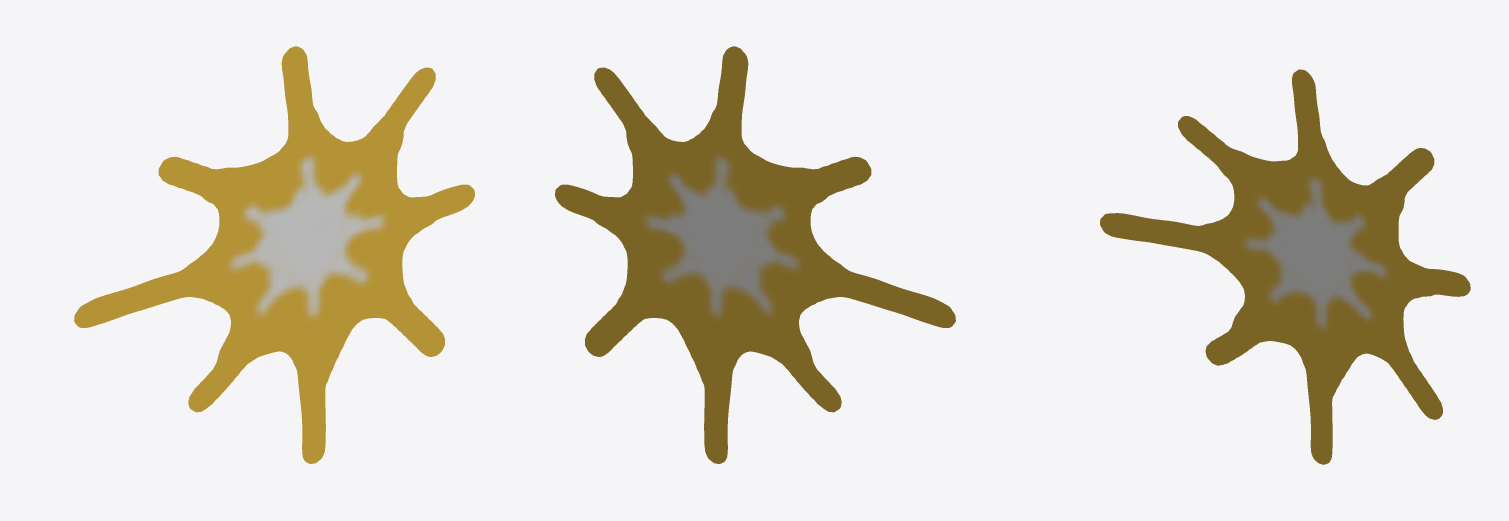
The model's file is nangua_bullet_dark.FBX.
3 renders of one model, left to right at view 1: azimuth 30°, elevation 25°; view 2: azimuth 150°, elevation 25°; view 3: azimuth 330°, elevation 25°, orthographic. The views are drawn at different scales.
Visible parts, largest first — view 1: bullet_dark; view 2: bullet_dark; view 3: bullet_dark.
Part boxes in pixels (x1,y1,x2,y2): bullet_dark: (74, 46, 474, 463); bullet_dark: (555, 46, 955, 463); bullet_dark: (1100, 69, 1470, 464).
Size of the model in its own units: 77.75 by 78.32 by 1.3e-05.
